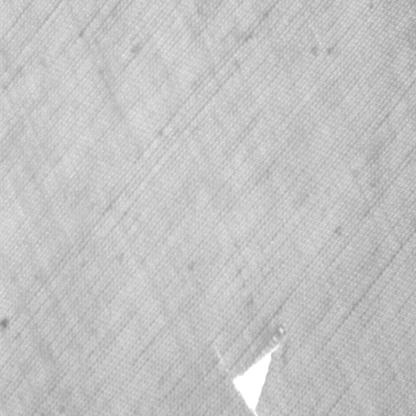hole: (228, 334, 288, 415)
